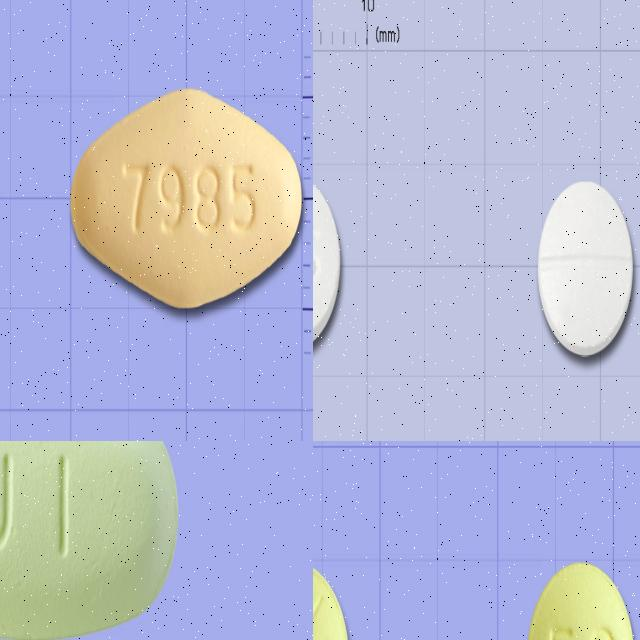Harvoni: (70, 87, 303, 309)
Jecli: (0, 441, 177, 640)
Levofroxin: (538, 178, 634, 358), (313, 176, 341, 353)
Tricyline-N Cap: (526, 559, 635, 640)
